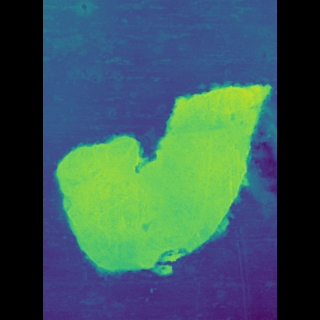Loch: (79, 72, 245, 282)
